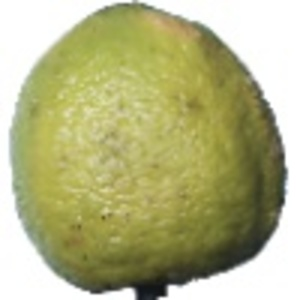limão: (11, 1, 289, 300)
